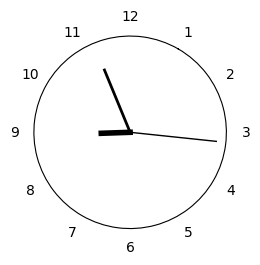12: (120, 9, 139, 23)
circle: (32, 35, 228, 230)
hours: (98, 129, 133, 137)
minutes: (102, 68, 130, 129)
seconds: (133, 131, 218, 142)
